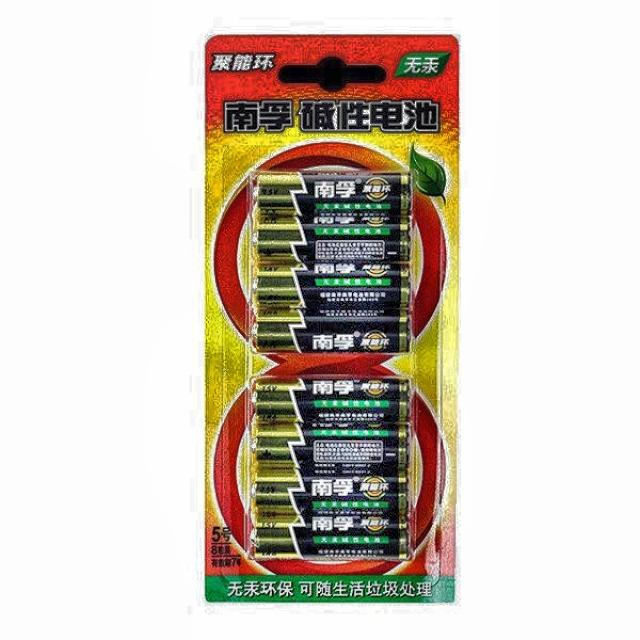Non-Valuable Waste - Batteries: (251, 378, 410, 559), (252, 171, 410, 352)
